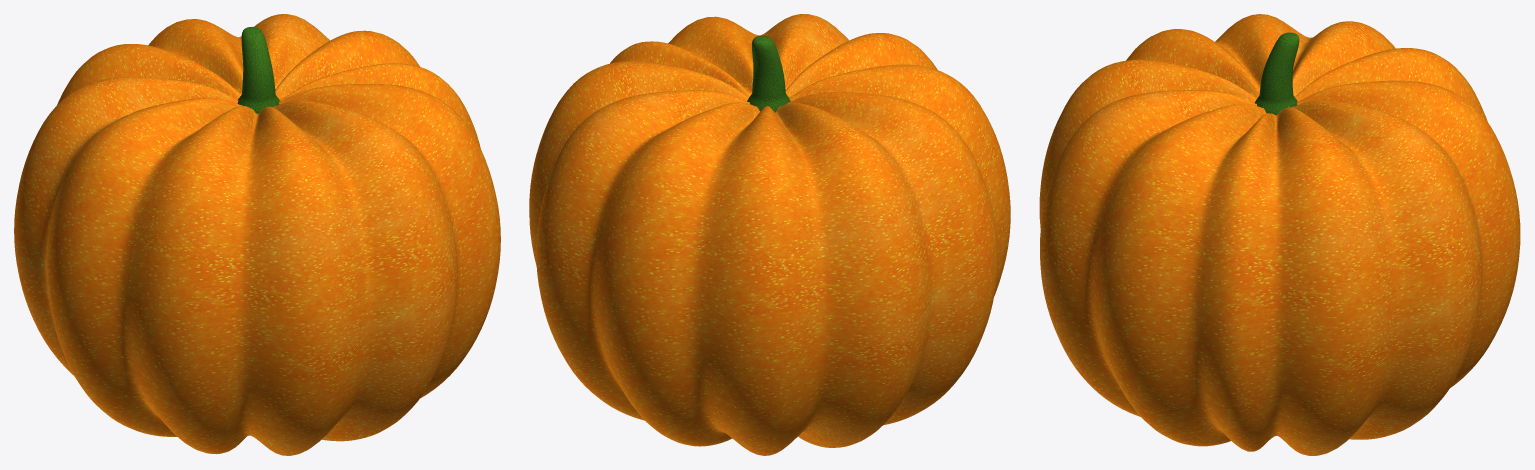
3 views of the same model, side by side, from view 1: azimuth 30°, elevation 25°; view 2: azimuth 150°, elevation 25°; view 3: azimuth 270°, elevation 25° (orthographic).
Parts seen in each view (by area): view 1: Pumpkin; view 2: Pumpkin; view 3: Pumpkin.
Boxes of the visible parts, x1,y1,x2,y2 form: Pumpkin: [14, 14, 500, 455]; Pumpkin: [529, 14, 1010, 455]; Pumpkin: [1039, 14, 1520, 455].
Size of the model in its own units: 1.93 by 1.7 by 1.93.
Materials: 2 (2 with a texture image).
